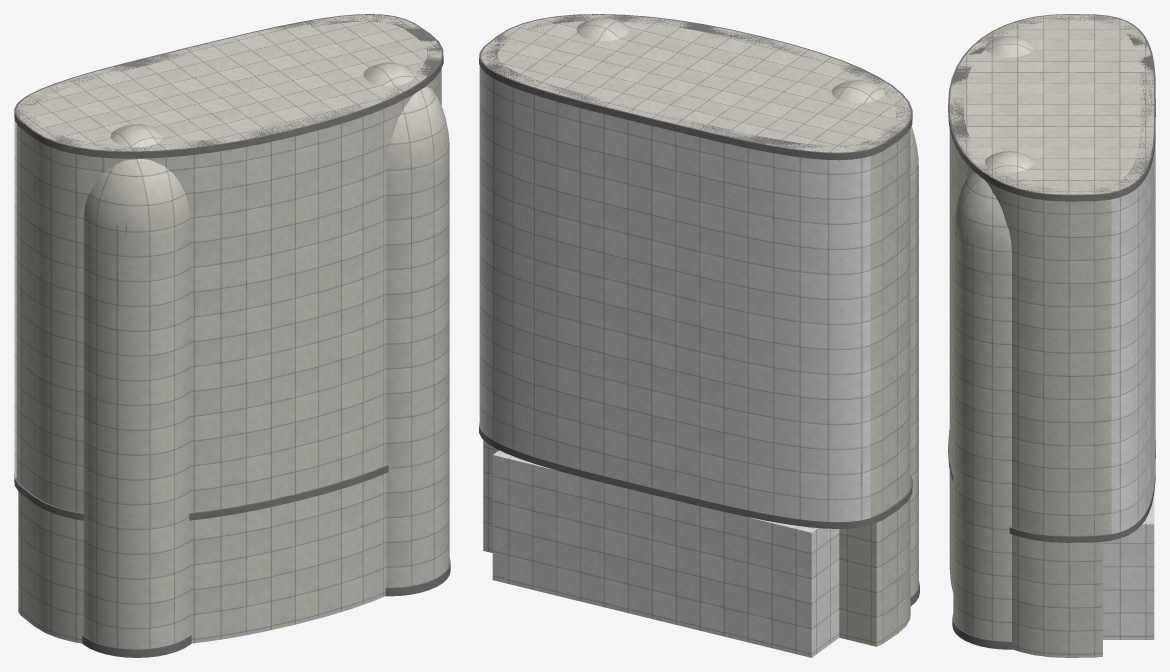
File: aero01_mk2_adapter_mk2_tail_oms.glb
3 renders of one model, left to right at view 1: azimuth 30°, elevation 25°; view 2: azimuth 150°, elevation 25°; view 3: azimuth 270°, elevation 25°, orthographic. The views are drawn at different scales.
Visible parts, largest first — view 1: fuselage, oms_pod_2, tail_cone, oms_pod, end_frames, belly_tiles, oms_mount_2, oms_mount; view 2: belly_tiles, fuselage, body_flap, end_frames, tail_cone, oms_pod_2, oms_pod; view 3: fuselage, oms_pod, belly_tiles, tail_cone, end_frames, body_flap, oms_pod_2, oms_mount.
Boxes of the visible parts, x1,y1,x2,y2 form: fuselage: [16, 15, 441, 512]; oms_pod_2: [83, 124, 190, 649]; tail_cone: [18, 473, 386, 643]; oms_pod: [363, 62, 449, 587]; end_frames: [14, 14, 443, 520]; belly_tiles: [14, 121, 16, 477]; oms_mount_2: [82, 635, 191, 657]; oms_mount: [385, 558, 450, 596]; belly_tiles: [479, 66, 870, 522]; fuselage: [481, 14, 910, 516]; body_flap: [492, 450, 839, 657]; end_frames: [479, 14, 912, 528]; tail_cone: [483, 440, 910, 646]; oms_pod_2: [831, 80, 918, 596]; oms_pod: [576, 18, 629, 40]; fuselage: [949, 14, 1154, 535]; oms_pod: [953, 151, 1033, 641]; belly_tiles: [1111, 139, 1155, 533]; tail_cone: [949, 470, 1102, 657]; end_frames: [948, 14, 1155, 542]; body_flap: [1103, 494, 1154, 639]; oms_pod_2: [985, 36, 1033, 57]; oms_mount: [952, 614, 1012, 649].
Size of the model in its own units: 2.52 by 3.05 by 1.22.
Materials: 3 (3 with a texture image).
